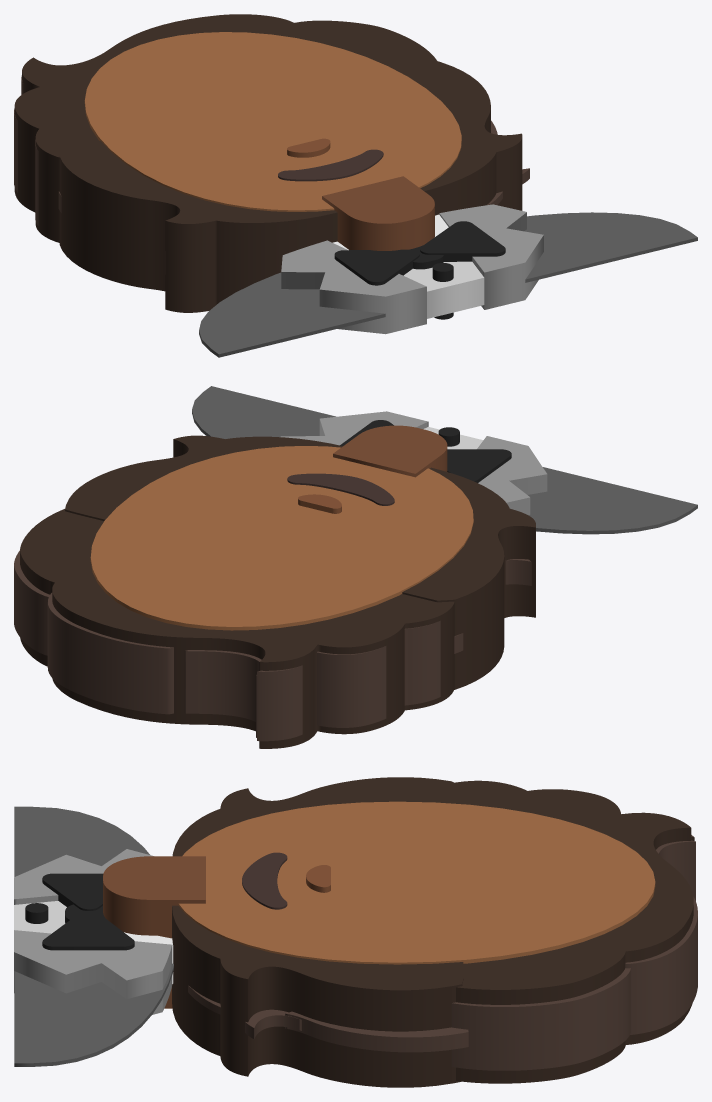
File: emoji_u1f935_1f3fe.glb
3 renders of one model, top to bottom at view 1: azimuth 30°, elevation 25°; view 2: azimuth 150°, elevation 25°; view 3: azimuth 270°, elevation 25°, orthographic. The views are drawn at different scales.
Visible parts, largest first — view 1: emoji_u1f935_1f3fe; view 2: emoji_u1f935_1f3fe; view 3: emoji_u1f935_1f3fe.
Part boxes in pixels (<box>): emoji_u1f935_1f3fe: <box>14,14,697,357</box>; emoji_u1f935_1f3fe: <box>14,386,697,748</box>; emoji_u1f935_1f3fe: <box>14,777,697,1087</box>.
Bounding box in the file's own units: 0.0294 × 0.006 × 0.0331.
